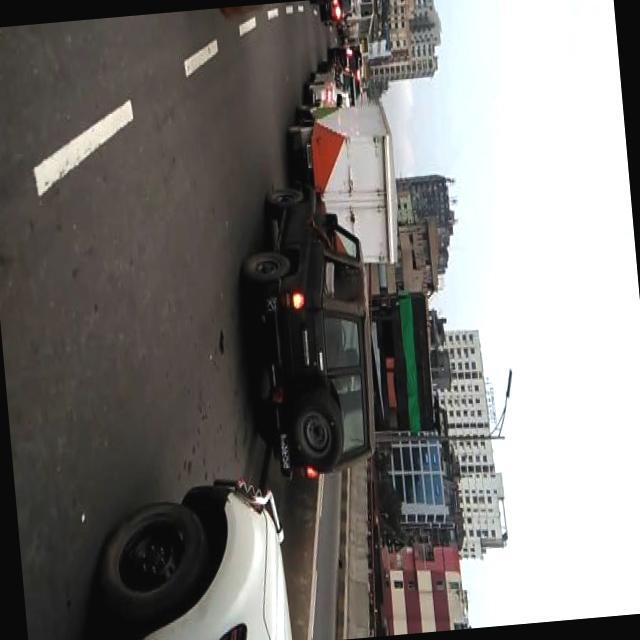truck: (224, 168, 390, 483), (280, 87, 402, 262)
